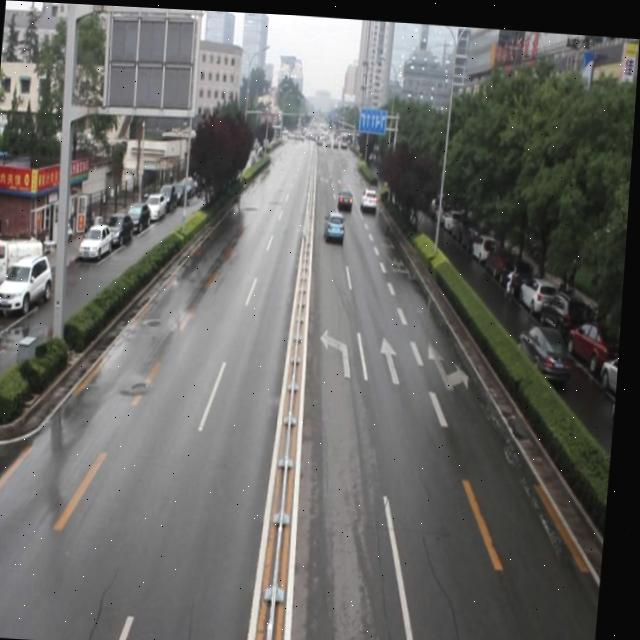car: (324, 204, 348, 238), (361, 182, 379, 205), (338, 183, 354, 206)
